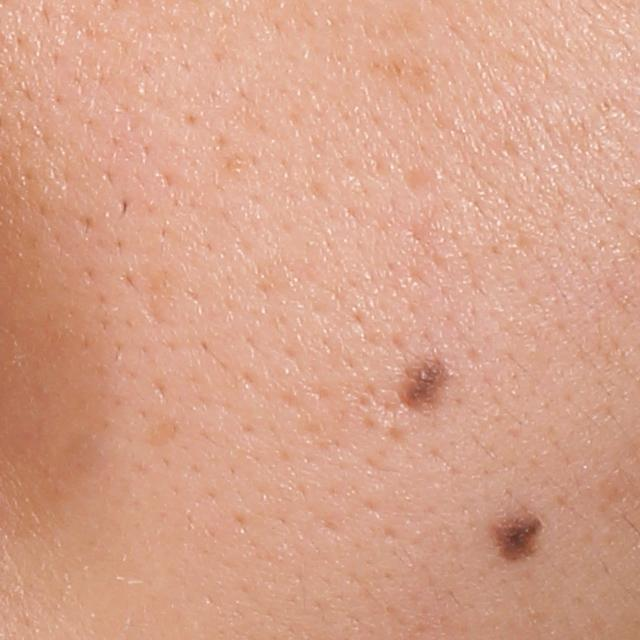atrophic_scar: (400, 162, 434, 199)
melasma: (369, 51, 436, 99)
nevus: (488, 490, 546, 563), (397, 349, 452, 420)
